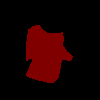maglia: (25, 24, 73, 82)
